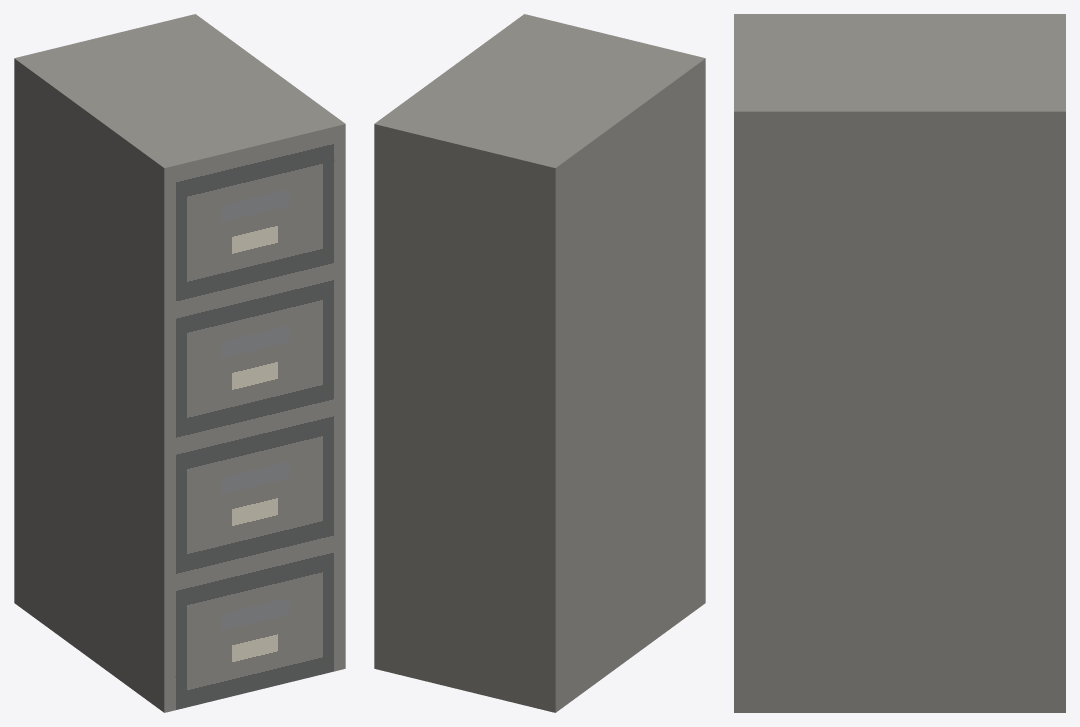
File: COM_FilingCabinet.glb
The picture shows the model from 3 angles, left to right: view 1: azimuth 30°, elevation 25°; view 2: azimuth 150°, elevation 25°; view 3: azimuth 270°, elevation 25°; orthographic projection. The views are drawn at different scales.
Visible parts, largest first — view 1: COM_FilingCabinet_Mesh; view 2: COM_FilingCabinet_Mesh; view 3: COM_FilingCabinet_Mesh.
Part boxes in pixels (x1,y1,x2,y2): COM_FilingCabinet_Mesh: [14, 14, 345, 712]; COM_FilingCabinet_Mesh: [374, 14, 705, 712]; COM_FilingCabinet_Mesh: [734, 14, 1065, 712].
Size of what is drawn, in the model's own units: 0.46 by 1.32 by 0.66.
Materials: 1 (1 with a texture image).
